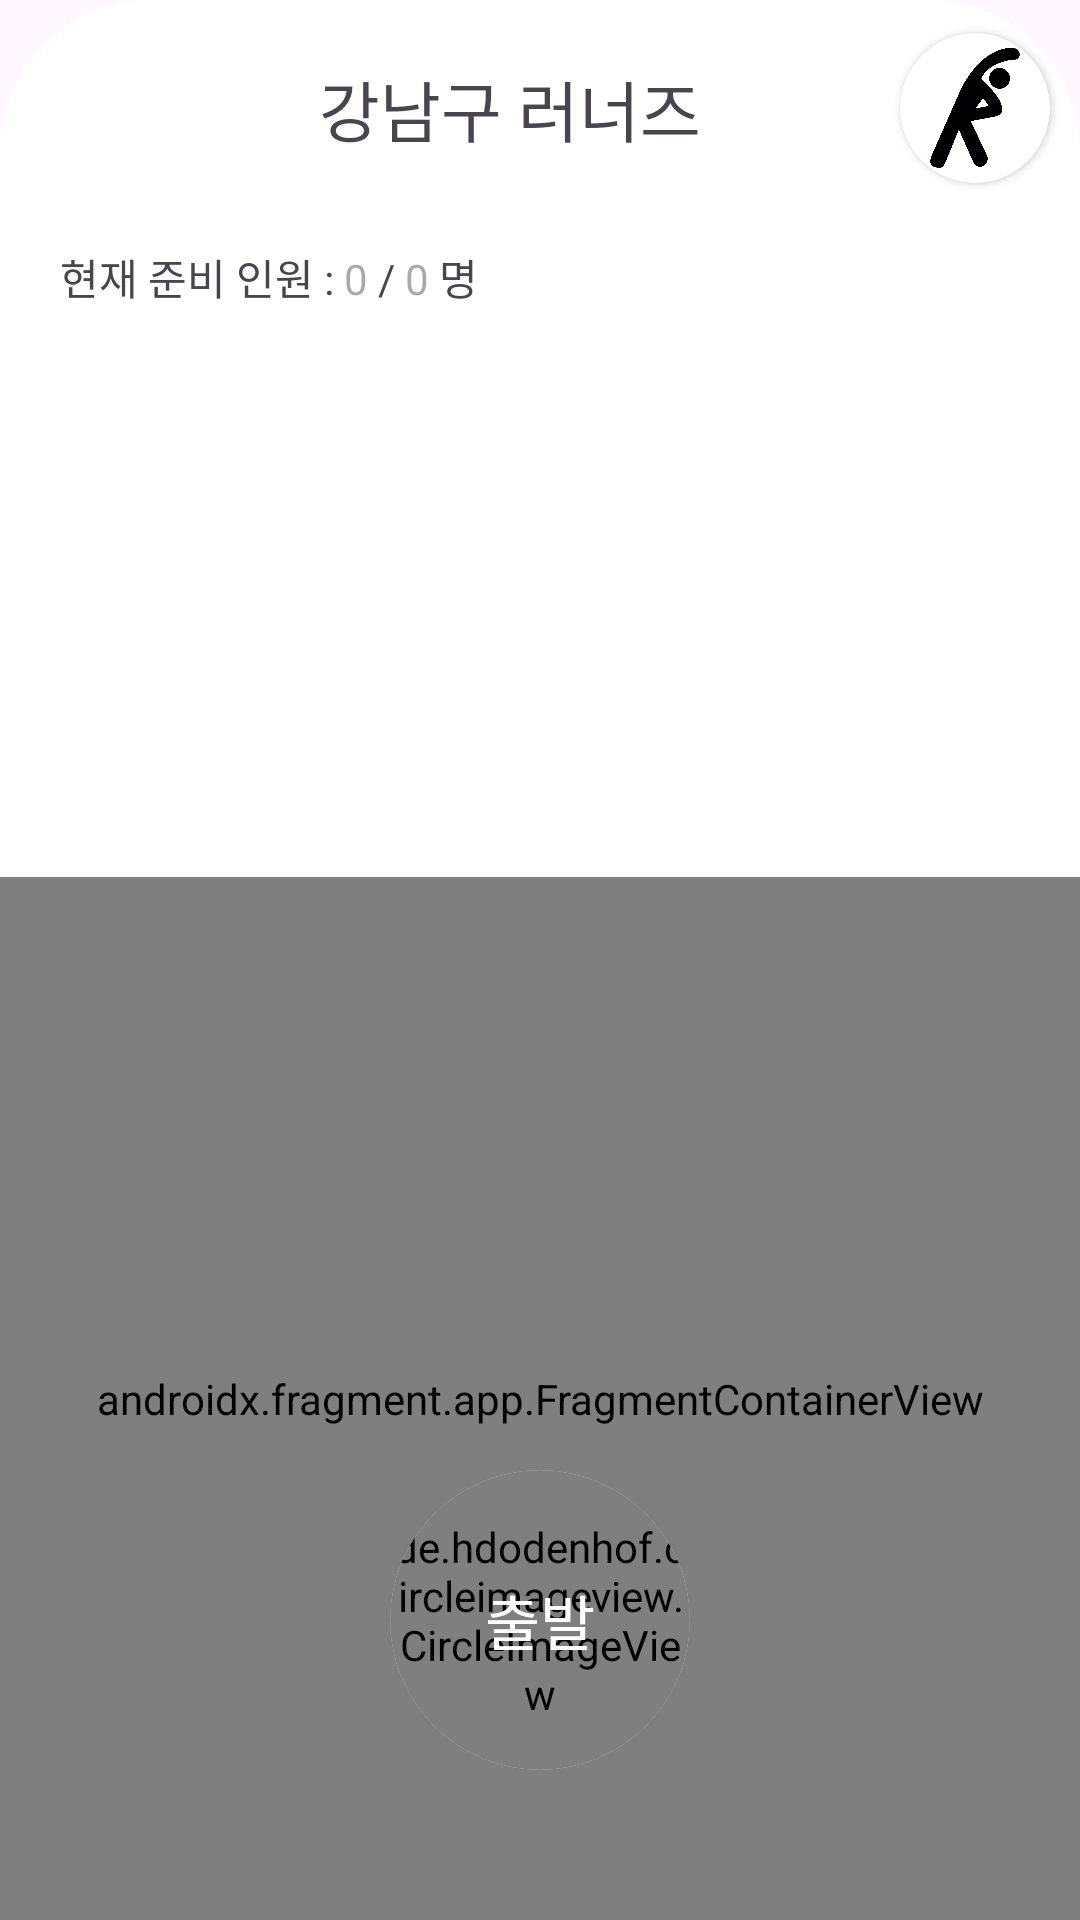

Named icons in this screenshot (1080px×1920px) and their centers, point (x, y):
stretching: point (975, 108)
